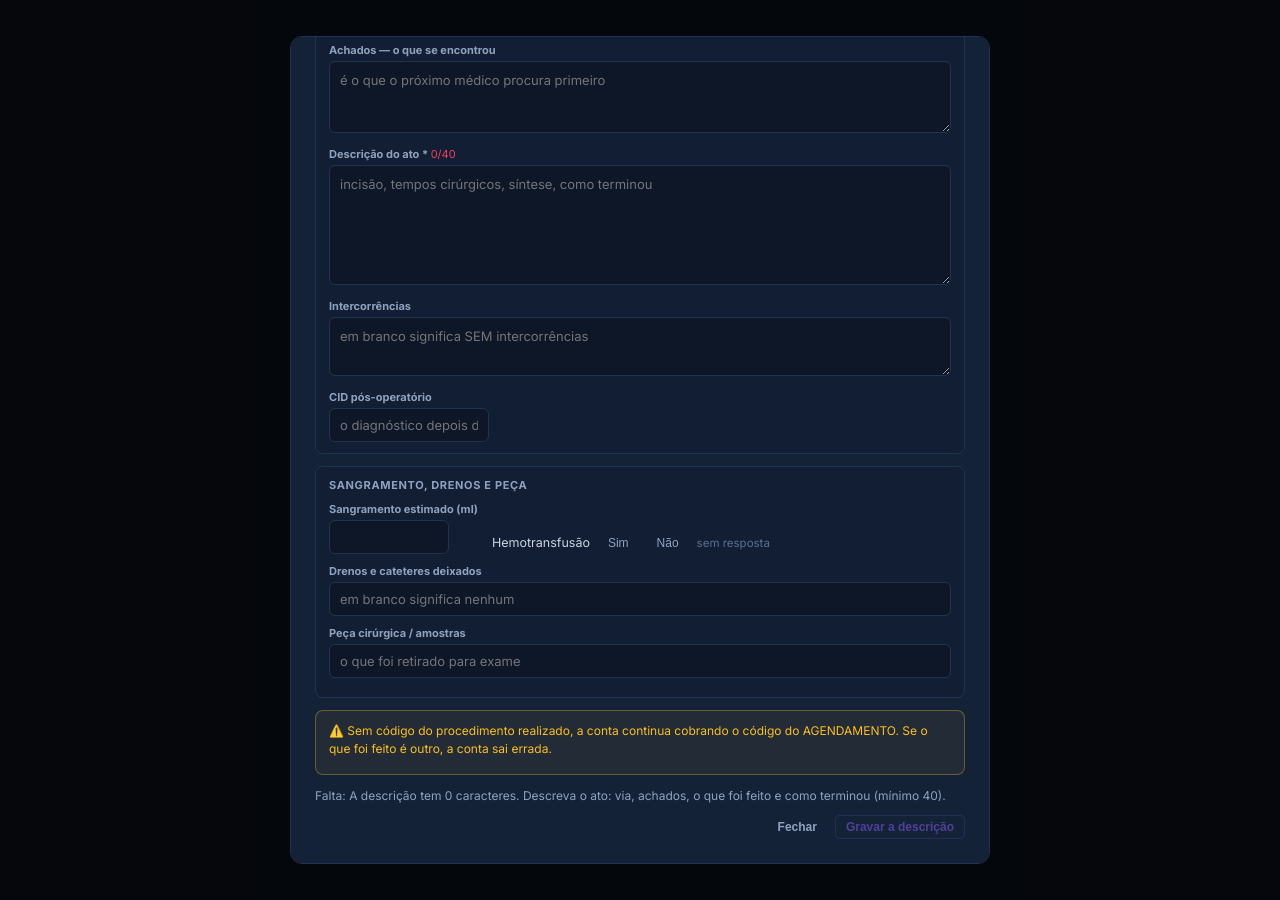
it: 🔴 o modal da descrição cirúrgica › o campo da peça só pede o envio depois de haver peça
This screenshot has width=1280, height=900.
(page scrolled)
Check: the text "Enviada para o anatomopatológico" is not shown
Type "Vesícula" into the field with placeholder "o que foi retirado para exame".
click(640, 661); type("Vesícula")  # box [329,644,951,678]
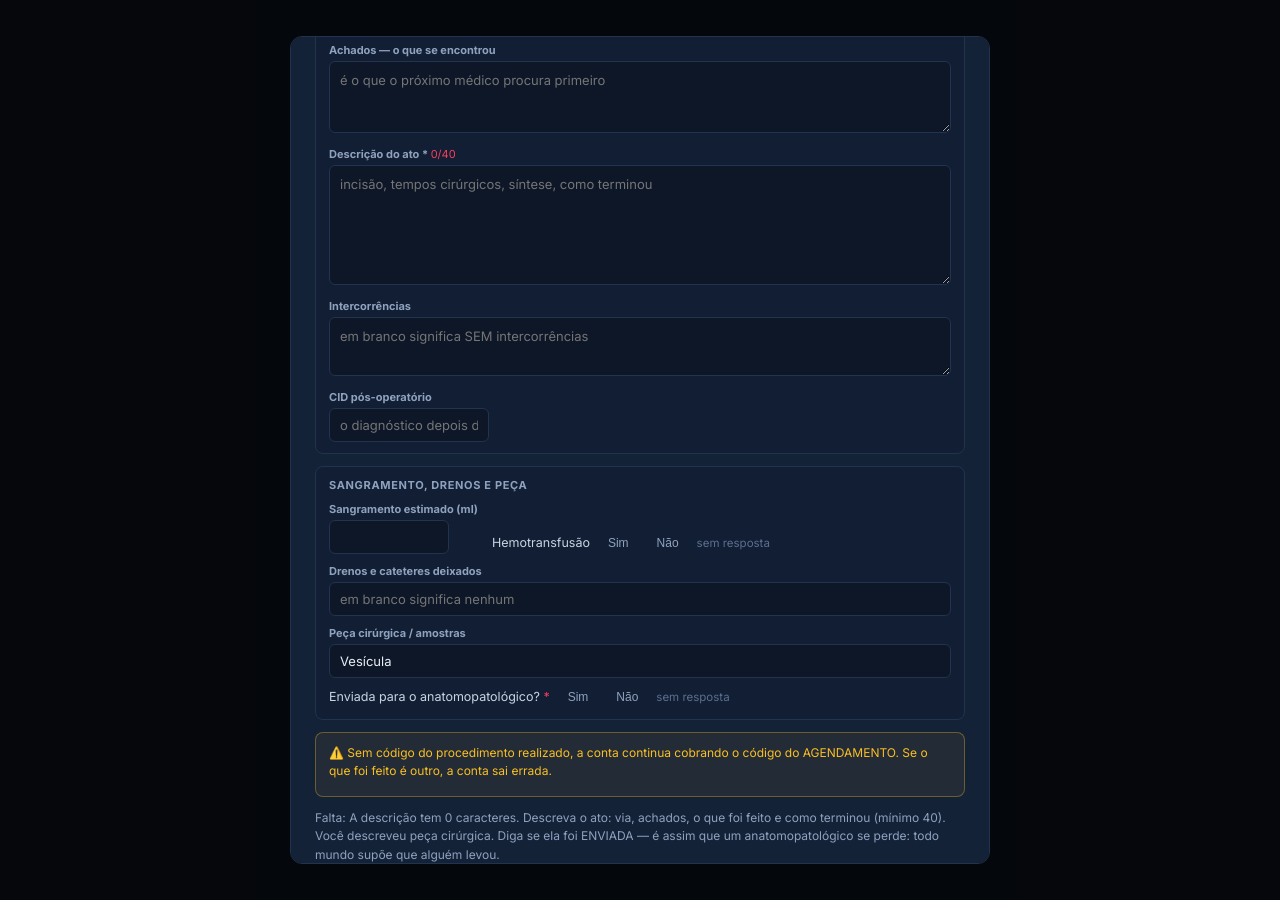
Check: the text "Enviada para o anatomopatológico? *" is shown, box [329,689,550,704]
